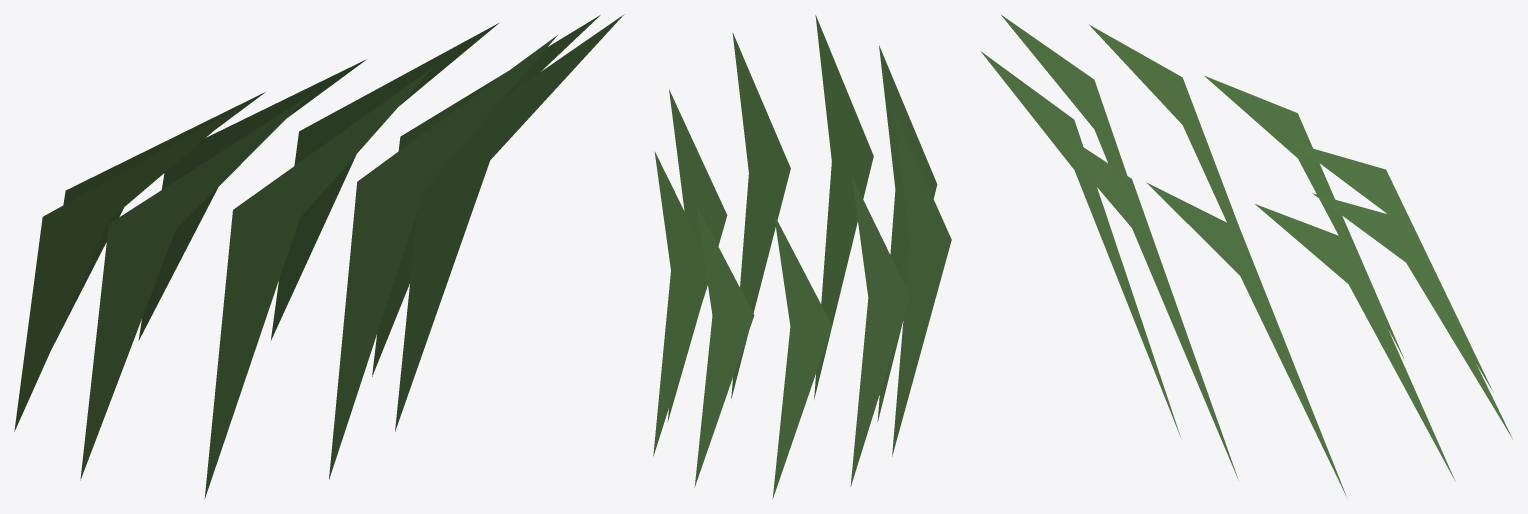
Rendered from nature-sea-grass.lod0.glb.
3 renders of one model, left to right at view 1: azimuth 30°, elevation 25°; view 2: azimuth 150°, elevation 25°; view 3: azimuth 270°, elevation 25°, orthographic. The views are drawn at different scales.
Visible parts, largest first — view 1: nature-sea-grass__fronds; view 2: nature-sea-grass__fronds; view 3: nature-sea-grass__fronds.
Part boxes in pixels (x1,y1,x2,y2): nature-sea-grass__fronds: (14, 14, 624, 498); nature-sea-grass__fronds: (653, 15, 951, 498); nature-sea-grass__fronds: (980, 15, 1512, 496).
Size of the model in its own units: 0.7049 by 0.7189 by 0.7924.
